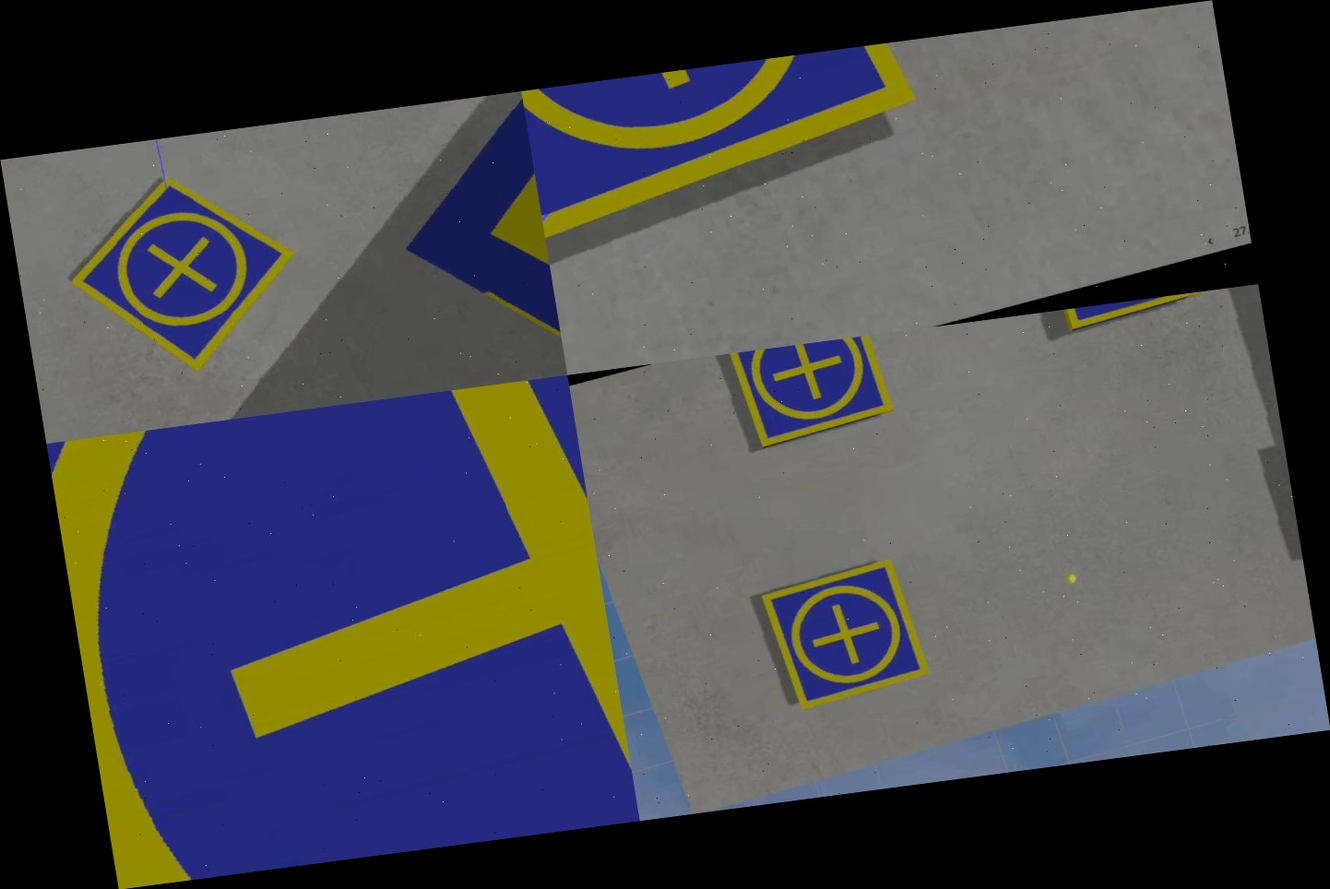large_base: (351, 91, 567, 397)
small_base: (46, 374, 640, 889), (521, 39, 940, 246), (42, 148, 329, 400), (758, 554, 938, 715), (726, 333, 900, 451), (1052, 290, 1212, 331)
